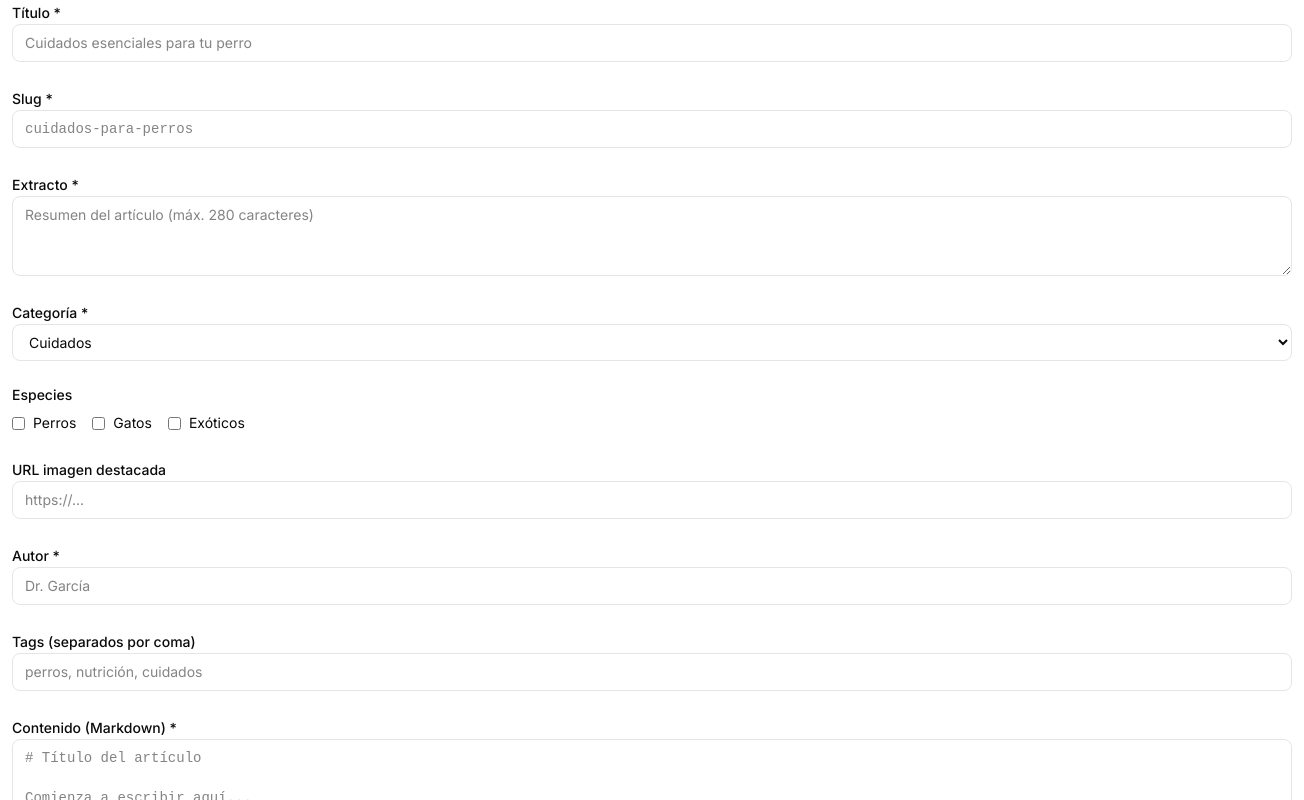
Scenario: BlogPostForm (10.1) › slug auto-fills from title when slug is empty
Type "Cuidados para perros" into the field labelled "Título *". click: (652, 43)
box: left=12, top=24, right=1292, bottom=62
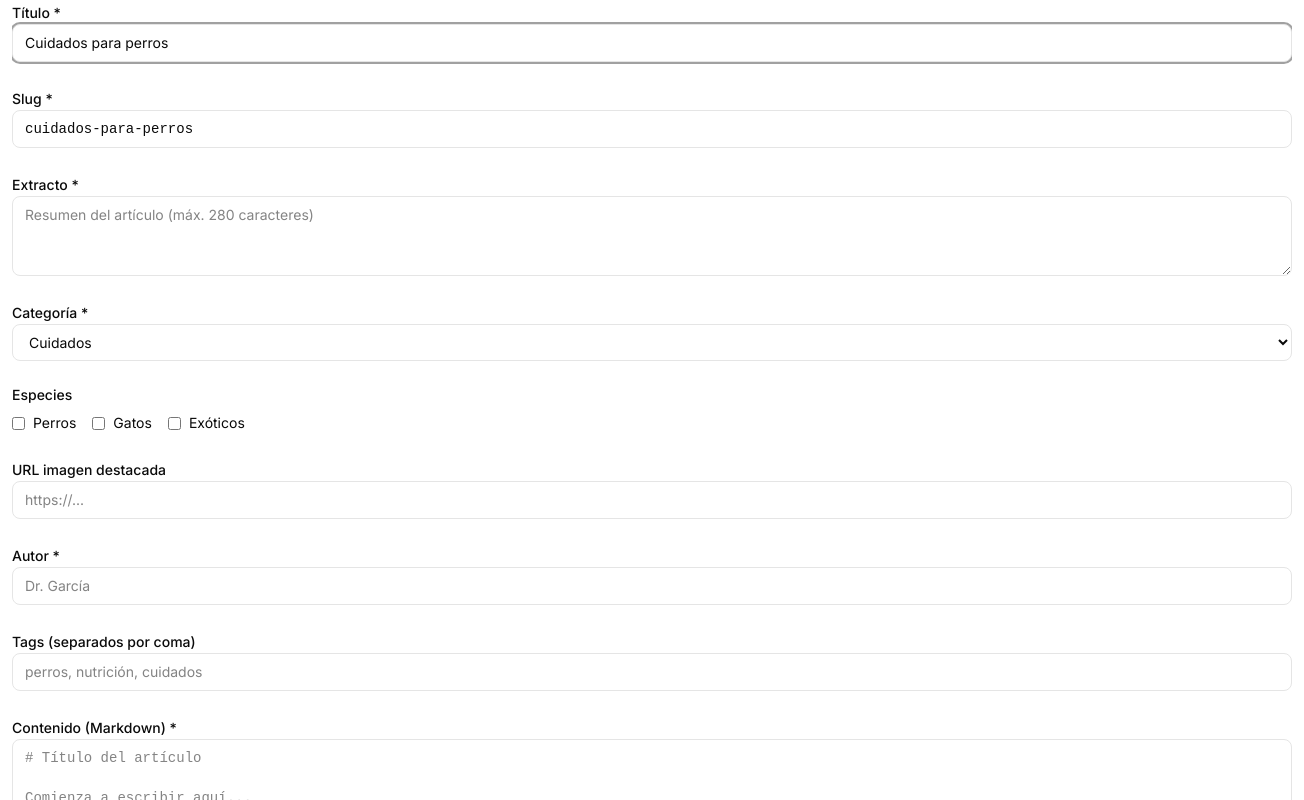
Expected: the field labelled "Slug *" holds "cuidados-para-perros", left=12, top=110, right=1292, bottom=148
